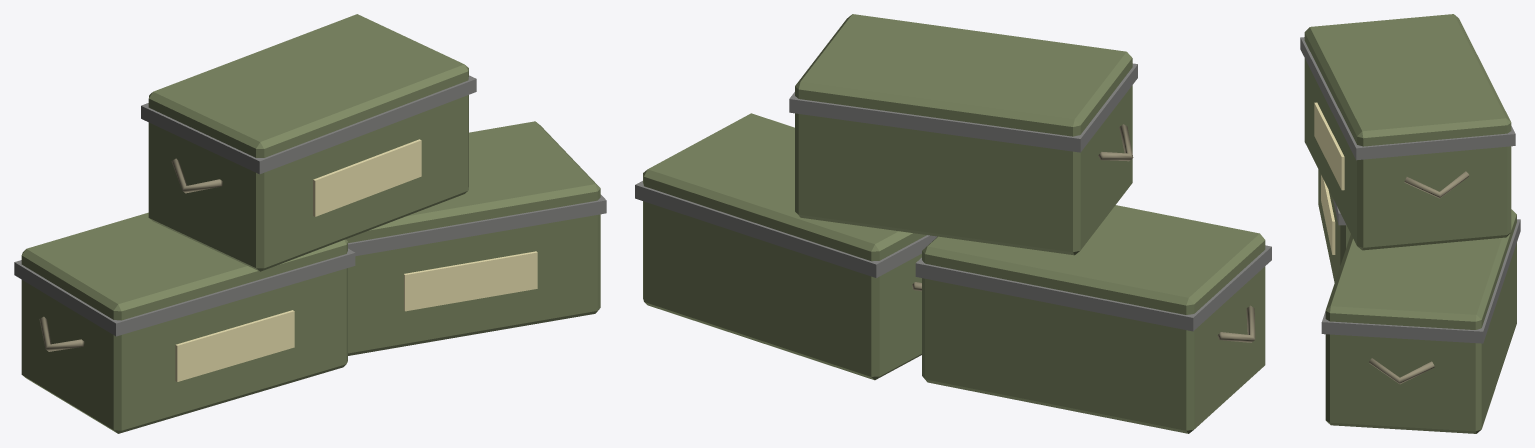
File: bk_crates.glb
3 views of the same model, side by side, from view 1: azimuth 30°, elevation 25°; view 2: azimuth 150°, elevation 25°; view 3: azimuth 270°, elevation 25° (orthographic). The views are drawn at different scales.
Visible parts, largest first — view 1: bk_crates; view 2: bk_crates; view 3: bk_crates.
Boxes of the visible parts, x1,y1,x2,y2 form: bk_crates: [14, 14, 606, 433]; bk_crates: [635, 14, 1271, 433]; bk_crates: [1300, 14, 1520, 433].
Size of the model in its own units: 2.23 by 1.02 by 0.8372.
